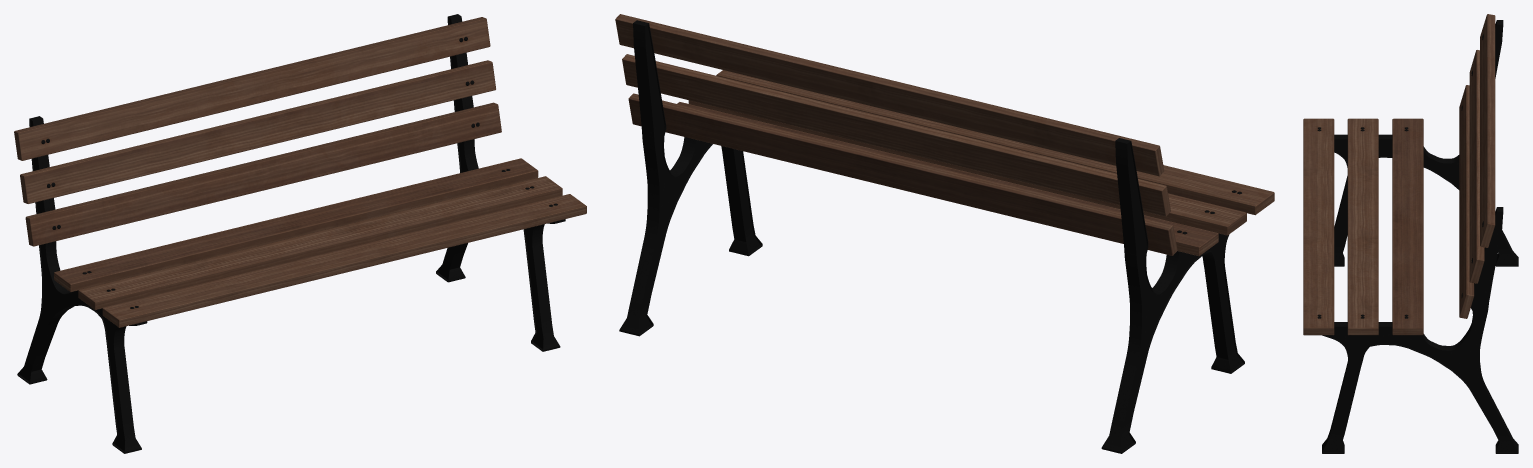
The model's file is 3D_bench_14.fbx.
The picture shows the model from 3 angles, left to right: view 1: azimuth 30°, elevation 25°; view 2: azimuth 150°, elevation 25°; view 3: azimuth 270°, elevation 25°; orthographic projection. The views are drawn at different scales.
Visible parts, largest first — view 1: Cube.002, Cube, Bench 14; view 2: Cube.002, Bench 14, Cube; view 3: Cube, Bench 14, Cube.002.
Part boxes in pixels (x1=…): Cube.002: x1=14, y1=17, x2=501, y2=246; Cube: x1=54, y1=158, x2=586, y2=327; Bench 14: x1=17, y1=14, x2=565, y2=453; Cube.002: x1=615, y1=14, x2=1177, y2=255; Bench 14: x1=619, y1=20, x2=1244, y2=453; Cube: x1=677, y1=70, x2=1274, y2=255; Cube: x1=1303, y1=118, x2=1423, y2=335; Bench 14: x1=1322, y1=20, x2=1518, y2=453; Cube.002: x1=1459, y1=14, x2=1495, y2=318.
Bounding box in the file's own units: 129 × 69.25 × 56.21.
